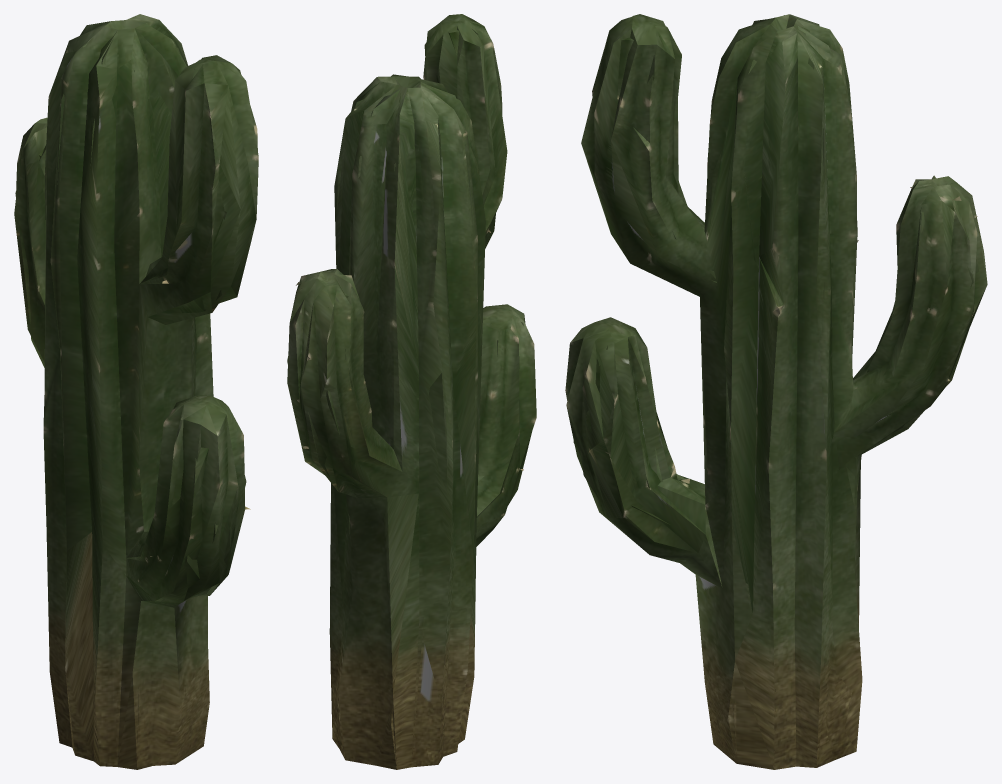
The picture shows the model from 3 angles, left to right: view 1: azimuth 30°, elevation 25°; view 2: azimuth 150°, elevation 25°; view 3: azimuth 270°, elevation 25°; orthographic projection. The views are drawn at different scales.
Parts seen in each view (by area): view 1: desert-cactus.002; view 2: desert-cactus.002; view 3: desert-cactus.002.
Boxes of the visible parts, x1,y1,x2,y2 form: desert-cactus.002: (14,14,258,769); desert-cactus.002: (287,14,536,769); desert-cactus.002: (565,14,987,769).
Bounding box in the file's own units: 0.5167 × 2.4 × 1.26.
Materials: 1 (1 with a texture image).
